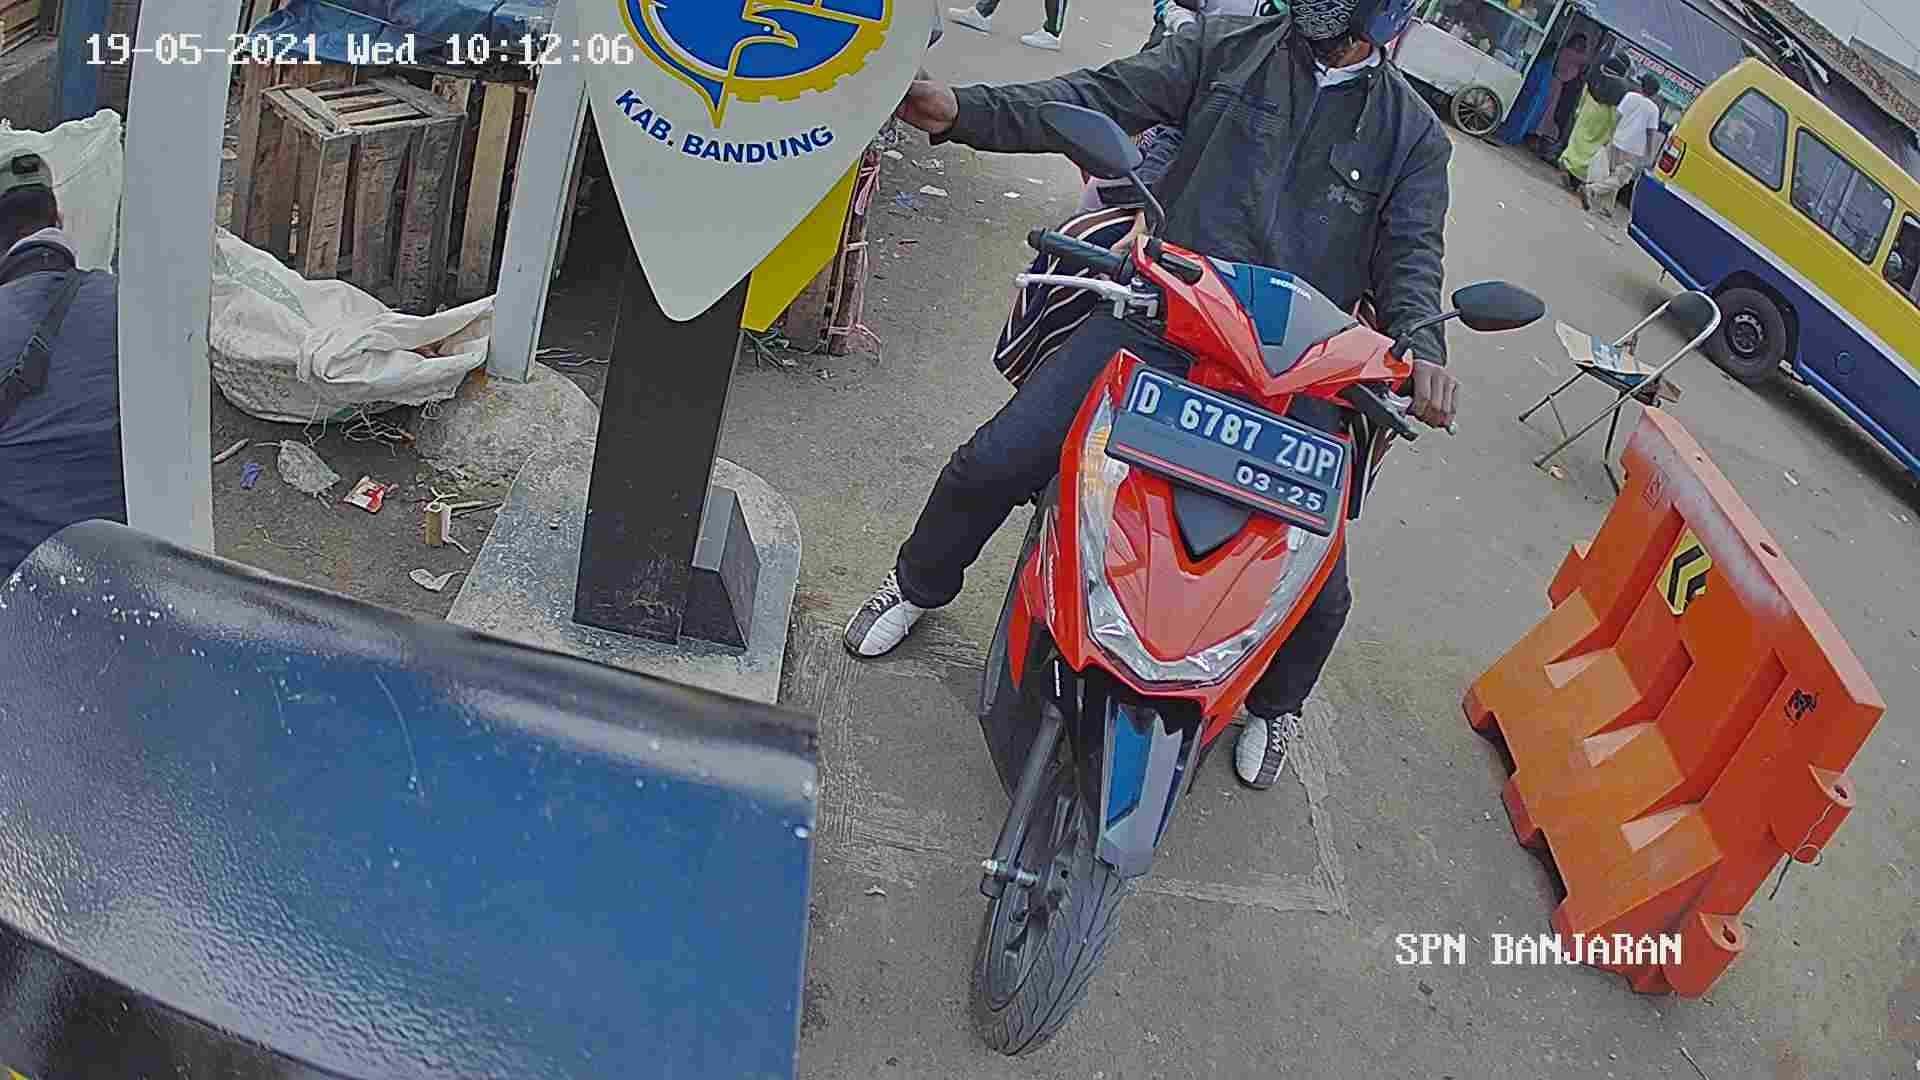motor: (978, 220, 1408, 1080)
